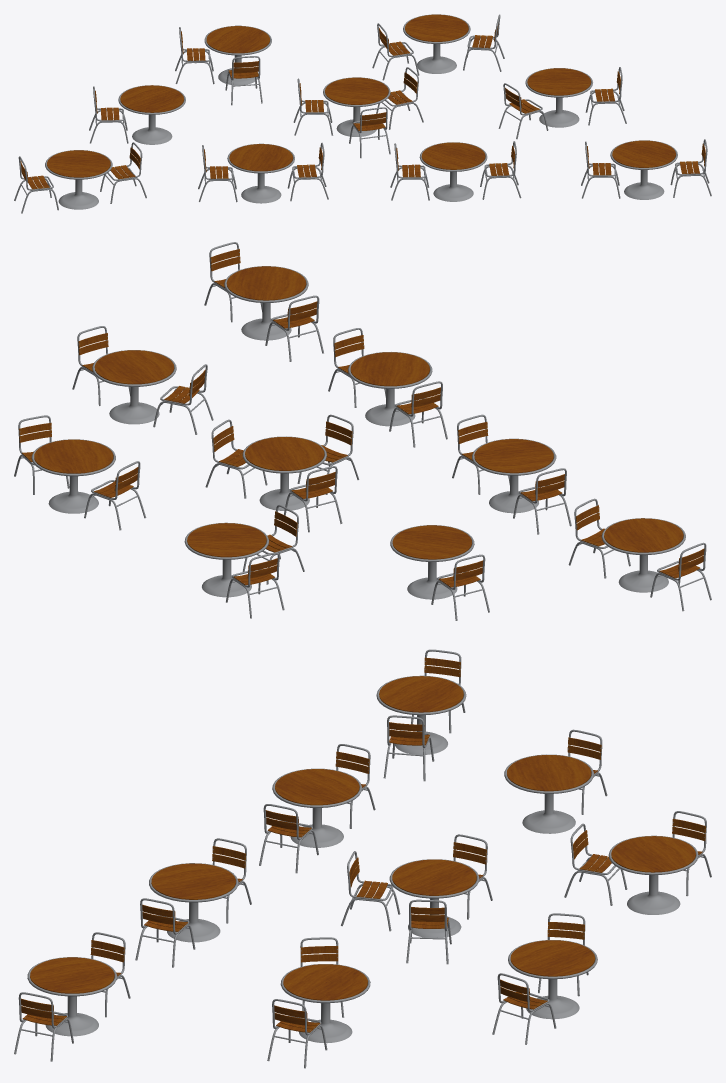
The model's file is CafeFurniture.fbx.
3 views of the same model, one above another, from view 1: azimuth 30°, elevation 25°; view 2: azimuth 150°, elevation 25°; view 3: azimuth 270°, elevation 25° (orthographic). The views are drawn at different scales.
Visible parts, largest first — view 1: CafeTable.002, CafeTable.003, CafeTable.006, CafeTable, CafeTable.007, CafeTable.001, CafeTable.004, CafeTable.005, CafeTable.008, CafeChair.013, CafeChair.017, CafeChair.008 (+15 smaller); view 2: CafeTable.004, CafeTable.007, CafeTable.003, CafeTable.008, CafeTable, CafeTable.006, CafeTable.001, CafeTable.002, CafeTable.005, CafeChair.004, CafeChair.002, CafeChair.016 (+15 smaller); view 3: CafeTable.006, CafeTable.008, CafeTable.002, CafeTable, CafeTable.001, CafeTable.004, CafeTable.007, CafeTable.003, CafeTable.005, CafeChair.003, CafeChair.009, CafeChair.001 (+15 smaller).
Boxes of the visible parts, left/top/right/bottom form: CafeTable.002: left=227, top=143, right=294, bottom=203; CafeTable.003: left=45, top=150, right=112, bottom=209; CafeTable.006: left=118, top=85, right=185, bottom=144; CafeTable: left=610, top=140, right=677, bottom=199; CafeTable.007: left=403, top=14, right=470, bottom=73; CafeTable.001: left=419, top=142, right=487, bottom=201; CafeTable.004: left=525, top=68, right=592, bottom=127; CafeTable.005: left=323, top=77, right=390, bottom=136; CafeTable.008: left=204, top=25, right=271, bottom=85; CafeChair.013: left=349, top=107, right=390, bottom=158; CafeChair.017: left=225, top=56, right=262, bottom=105; CafeChair.008: left=498, top=83, right=548, bottom=139; CafeTable.004: left=92, top=350, right=176, bottom=424; CafeTable.007: left=31, top=439, right=115, bottom=513; CafeTable.003: left=601, top=518, right=685, bottom=592; CafeTable.008: left=184, top=522, right=268, bottom=597; CafeTable: left=224, top=266, right=308, bottom=340; CafeTable.006: left=390, top=525, right=474, bottom=599; CafeTable.001: left=348, top=352, right=432, bottom=426; CafeTable.002: left=472, top=438, right=556, bottom=513; CafeTable.005: left=242, top=436, right=326, bottom=510; CafeChair.004: left=513, top=468, right=571, bottom=534; CafeChair.002: left=389, top=381, right=447, bottom=447; CafeChair.016: left=226, top=552, right=284, bottom=618; CafeTable.006: left=504, top=754, right=593, bottom=833; CafeTable.008: left=608, top=835, right=698, bottom=914; CafeTable.002: left=272, top=768, right=362, bottom=847; CafeTable: left=27, top=957, right=117, bottom=1036; CafeTable.001: left=149, top=863, right=238, bottom=942; CafeTable.004: left=280, top=964, right=370, bottom=1043; CafeTable.007: left=508, top=940, right=597, bottom=1019; CafeTable.003: left=376, top=675, right=466, bottom=754; CafeTable.005: left=389, top=859, right=479, bottom=937; CafeChair.003: left=135, top=898, right=195, bottom=967; CafeChair.009: left=267, top=999, right=327, bottom=1068; CafeChair.001: left=14, top=992, right=73, bottom=1061.
Size of the model in its own units: 1200 by 96.23 by 979.
